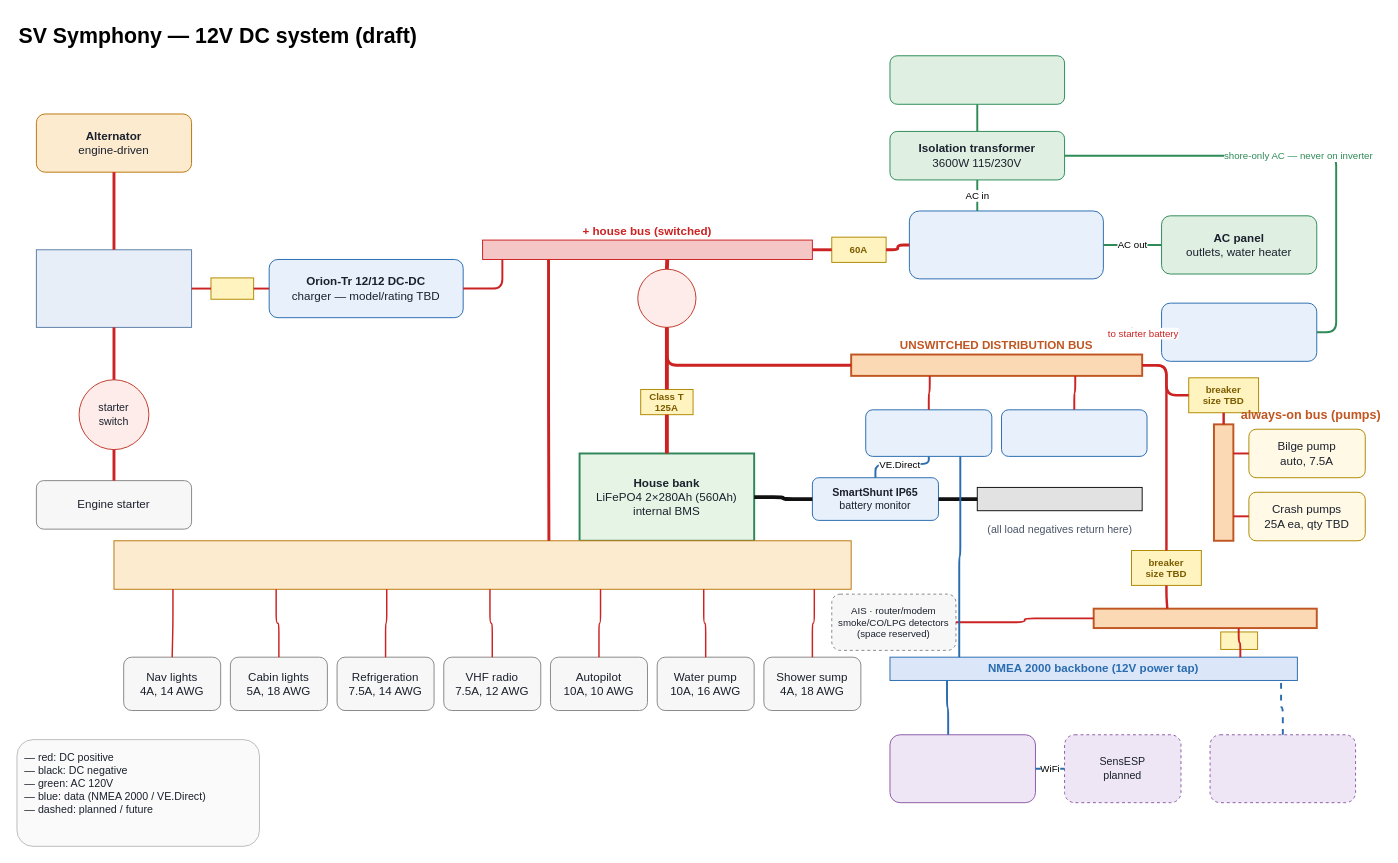
Some shapes in this 1398 by 863 pixel diagram are drawn without their labels. The shapes that lost their labels are listed below. From the top down, each one's centre as x and y in pixels, then its label:
the point at 977,79: Shore power inlet 120V AC, 30A
the point at 1005,244: MultiPlus 500VA Victron inverter-charger
the point at 113,288: Starter battery AGM Group 48R, 70Ah
the point at 232,288: 50A
the point at 666,297: master 275A
the point at 1239,331: Blue Smart IP22 12/30 AGM starter charger + other chargers TBD
the point at 928,432: Cerbo GX MK2 monitoring hub
the point at 1074,432: BatteryProtect 65A load side TBD
the point at 1059,498: − bus
the point at 482,564: DC distribution panel (breakers)
the point at 1204,618: LOW CURRENT UNSWITCHED
the point at 1239,640: 3A
the point at 962,768: SignalK server Raspberry Pi, N2K-powered
the point at 1282,768: Digital switching nav / cabin lights planned
